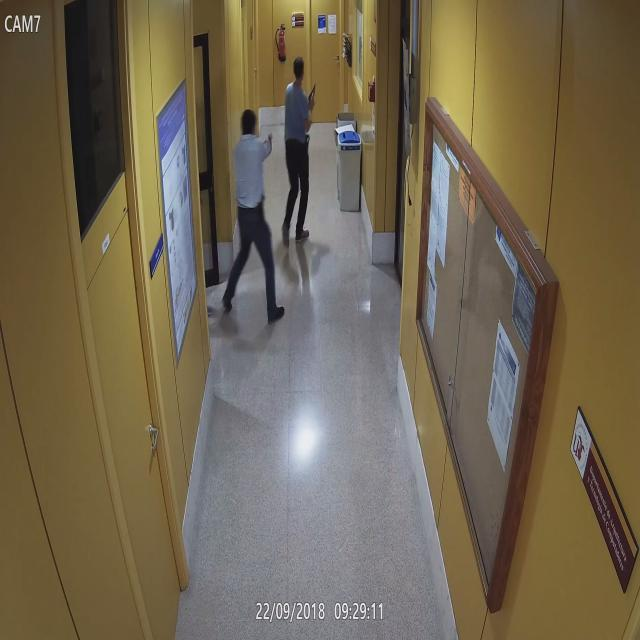Gun: (307, 80, 316, 104)
